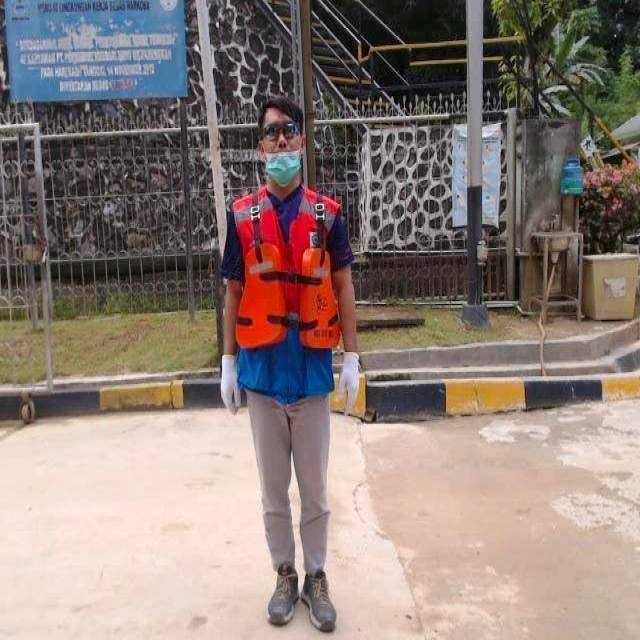Gloves: (219, 353, 241, 414), (337, 351, 360, 405)
